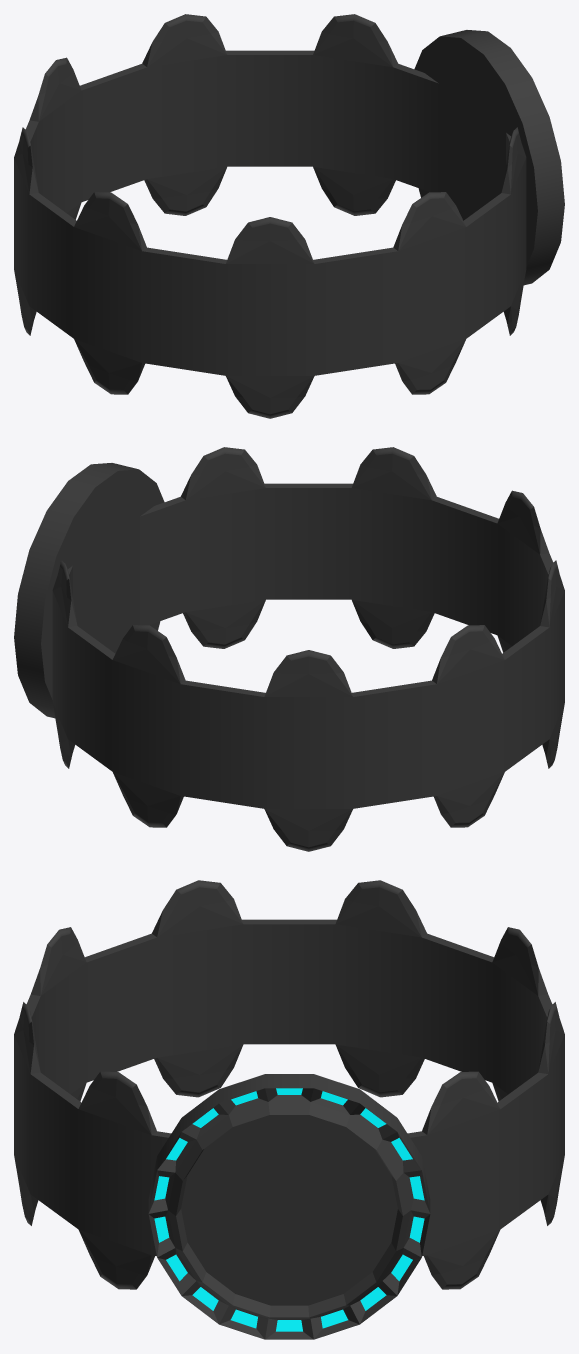
Rendered from clock.dae.
3 views of the same model, one above another, from view 1: azimuth 30°, elevation 25°; view 2: azimuth 150°, elevation 25°; view 3: azimuth 270°, elevation 25° (orthographic). The views are drawn at different scales.
Visible parts, largest first — view 1: Tube001, Cylinder001; view 2: Tube001, Cylinder001; view 3: Tube001, Cylinder001.
Part boxes in pixels (<box>): Tube001: <box>14,14,526,418</box>; Cylinder001: <box>414,30,564,285</box>; Tube001: <box>52,447,564,851</box>; Cylinder001: <box>14,463,164,718</box>; Tube001: <box>14,880,564,1289</box>; Cylinder001: <box>148,1074,430,1339</box>.
Size of the model in its own units: 102 by 50.22 by 99.71.
